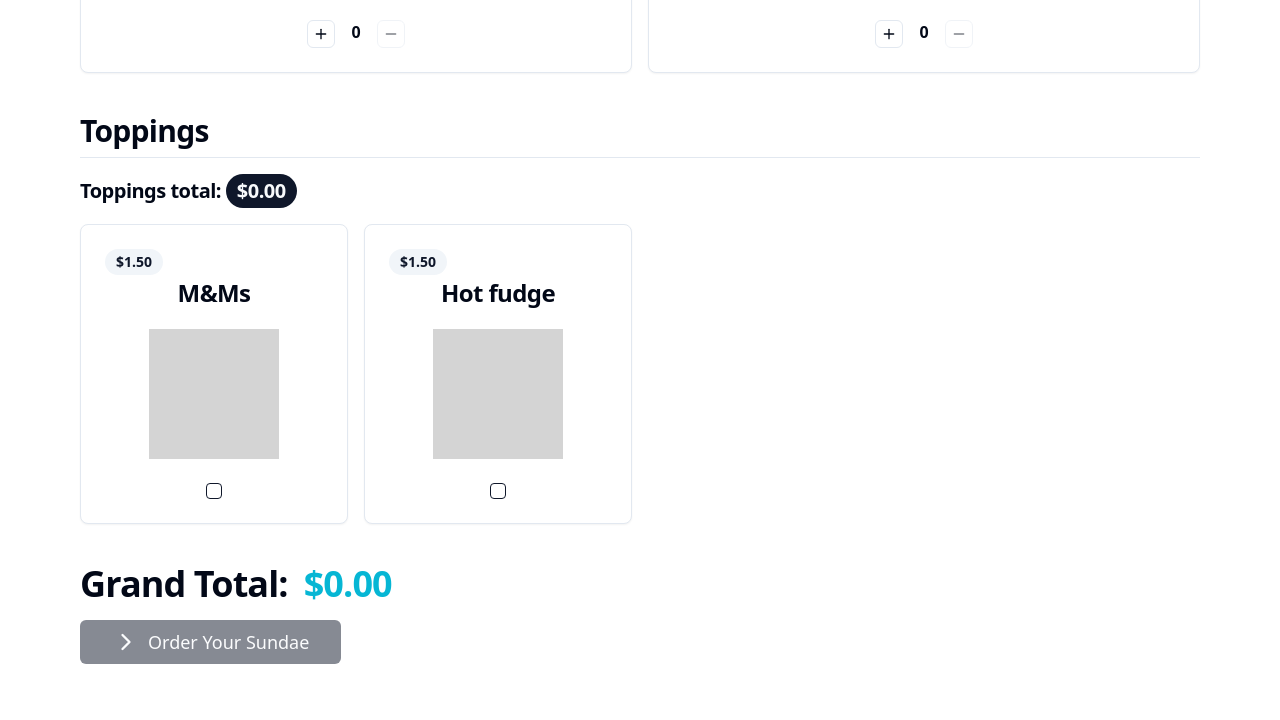
check if order button is disabled when no scoop is ordered
The image size is (1280, 720).
(page scrolled)
Expected: the button "Order Your Sundae" is disabled, x1=80 y1=620 x2=341 y2=664
// order toppings and expect order button to be disabled
What coordinates should you click on to do the following:
click the checkbox below "M&Ms"
I would click on:
 (214, 491)
Its box is x1=206 y1=483 x2=222 y2=499.
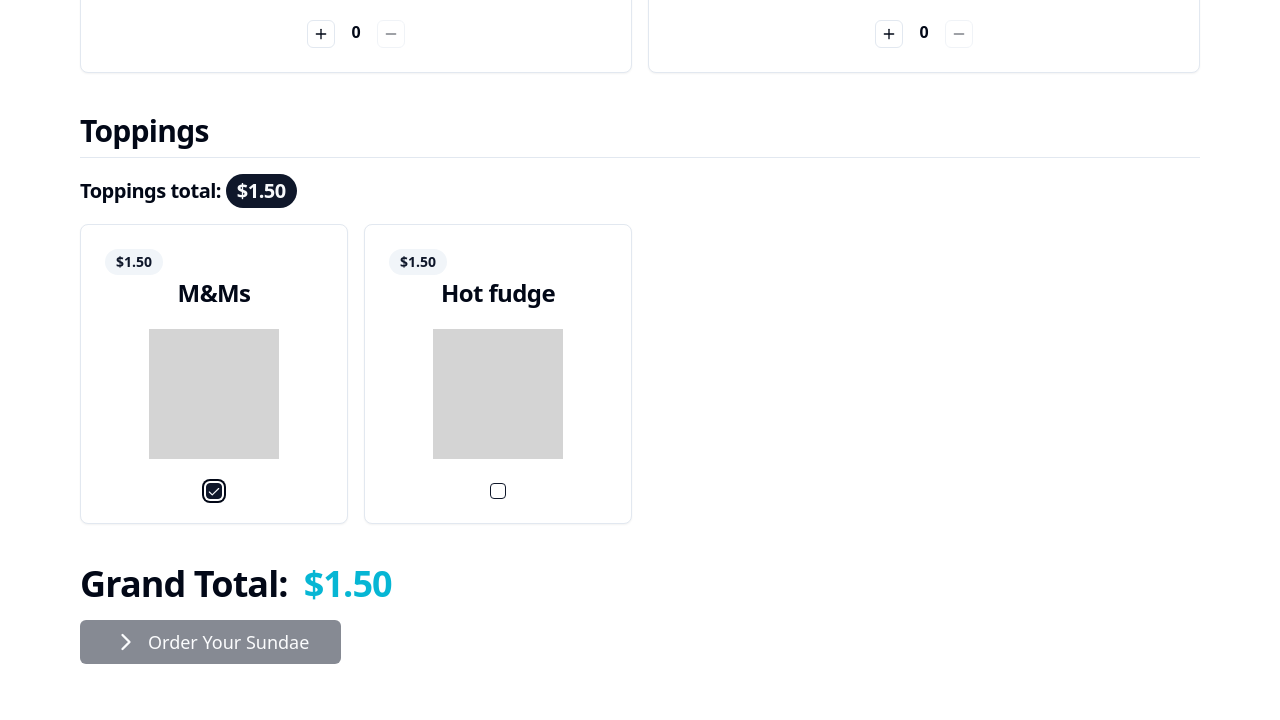
Expected: the button "Order Your Sundae" is disabled, x1=80 y1=620 x2=341 y2=664
// order scoops and expect order button to be enabled
What coordinates should you click on to do the following:
click the 1st button titled "plus"
I would click on:
 (321, 34)
Its box is x1=307 y1=20 x2=335 y2=48.
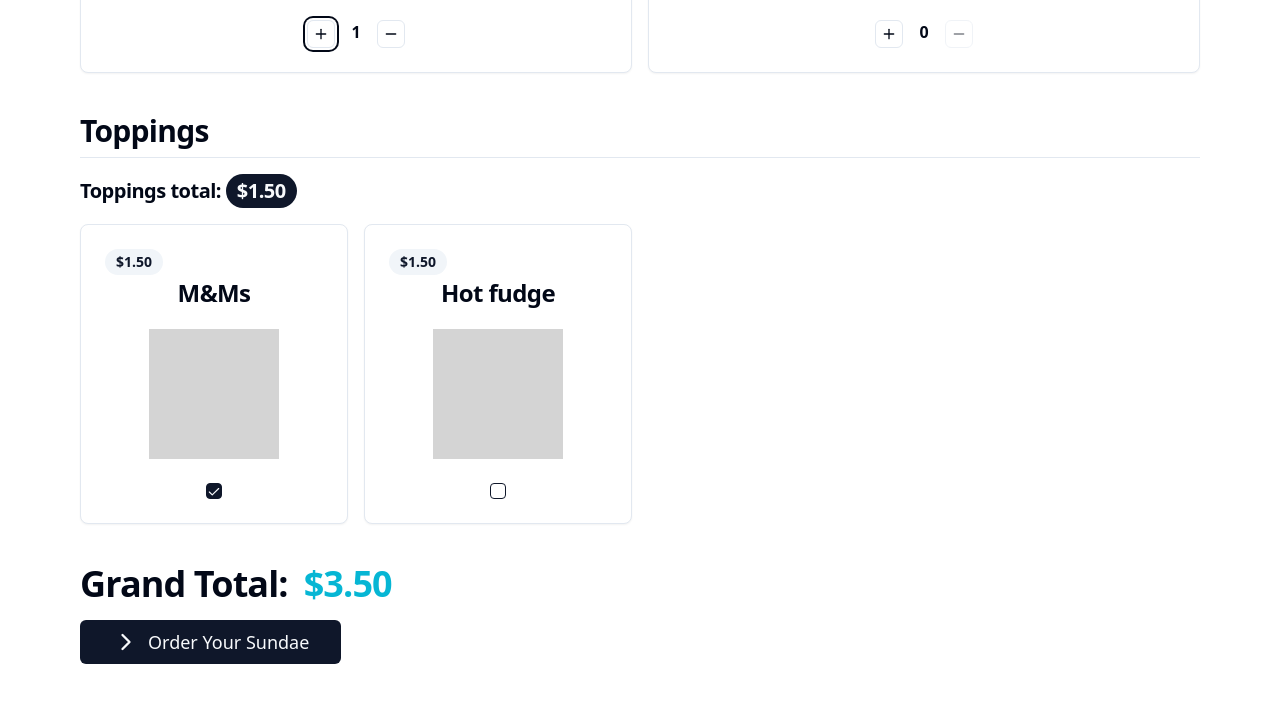
Expected: the button "Order Your Sundae" is enabled, x1=80 y1=620 x2=341 y2=664
// cancel scoop order and expect order button to be disabled
What coordinates should you click on to do the following:
click the 2nd button titled "minus"
I would click on:
 (391, 34)
Its box is x1=377 y1=20 x2=405 y2=48.
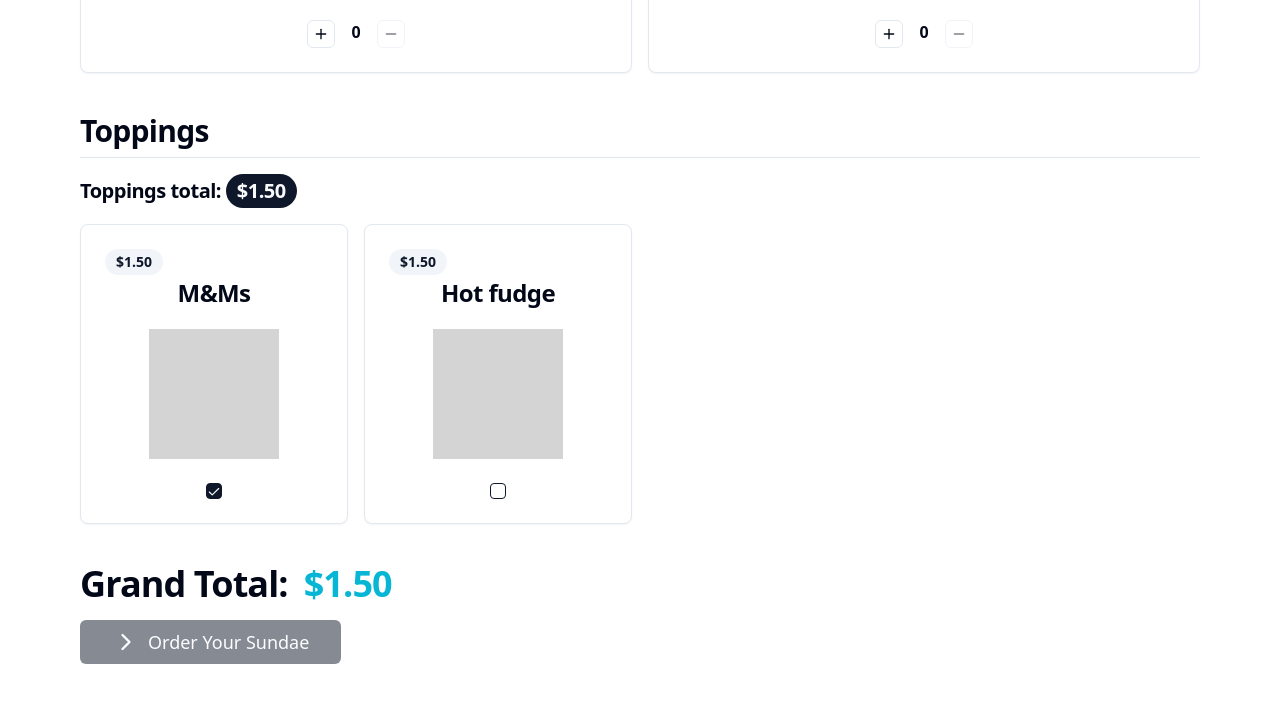
Expected: the button "Order Your Sundae" is disabled, x1=80 y1=620 x2=341 y2=664
